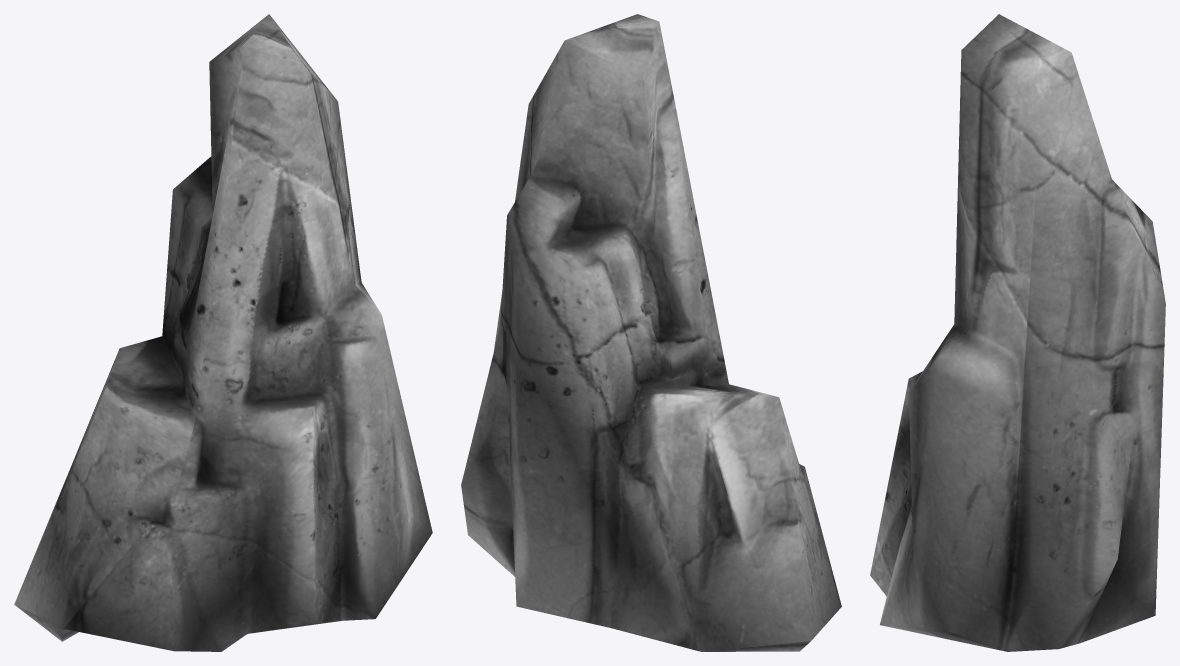
File: ROCK_7.FBX
3 renders of one model, left to right at view 1: azimuth 30°, elevation 25°; view 2: azimuth 150°, elevation 25°; view 3: azimuth 270°, elevation 25°, orthographic. The views are drawn at different scales.
Parts seen in each view (by area): view 1: 07; view 2: 07; view 3: 07.
Part boxes in pixels (x1,y1,x2,y2): 07: [14, 14, 432, 651]; 07: [461, 14, 841, 651]; 07: [870, 14, 1165, 651].
Bounding box in the file's own units: 730 × 1130 × 502.
Materials: 1 (1 with a texture image).
